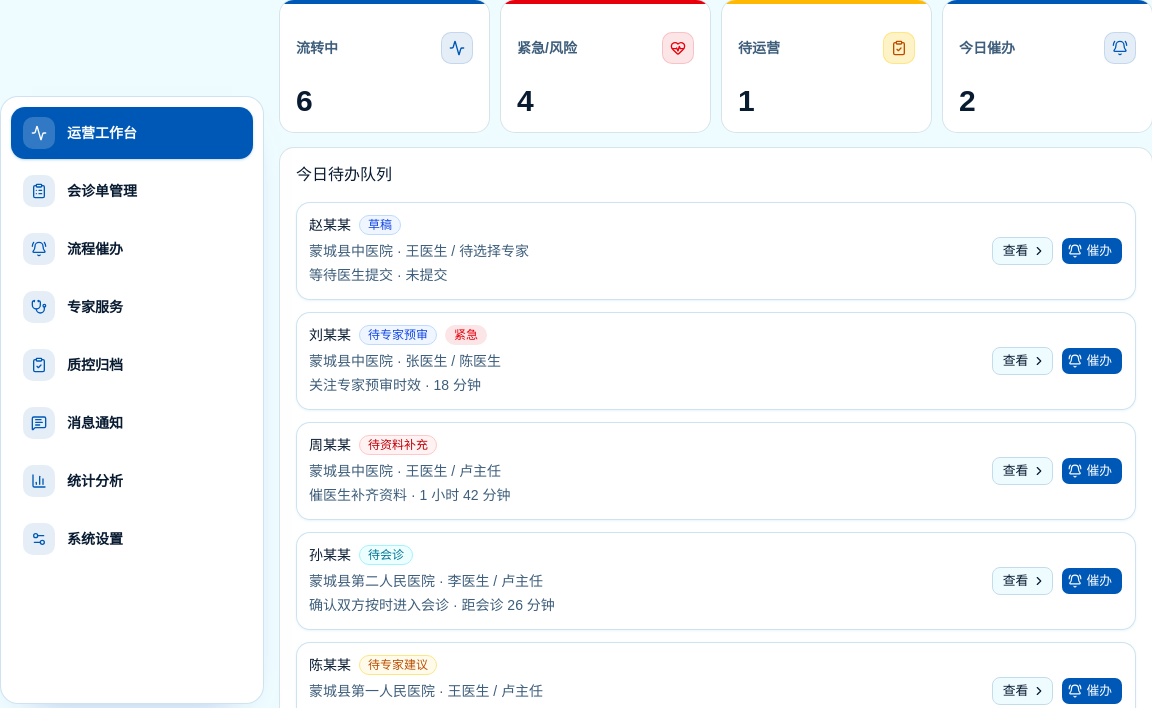
Test: AdminView navigation › does not expose service controls or activation actions before expert app activation
The image size is (1152, 708).
Click the button "专家服务": (132, 307) [11,281,253,333]
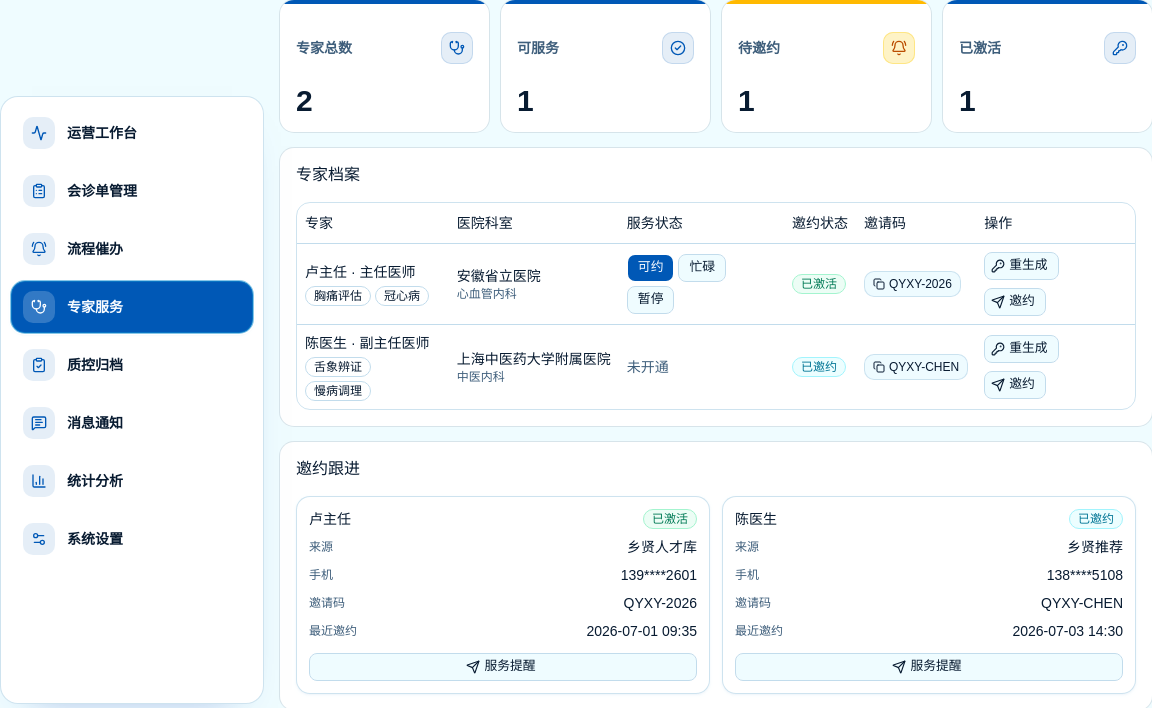
Now the text "陈医生 · 副主任医师" is shown, box [297,324,1135,408]
Now the icon "已邀约" in the row of "舌象辨证" is shown, box [801,360,837,374]
Now the text "未开通" is shown, box [627,358,669,374]
